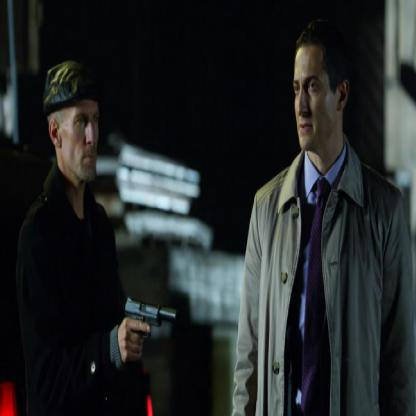Gun: (120, 292, 177, 354)
